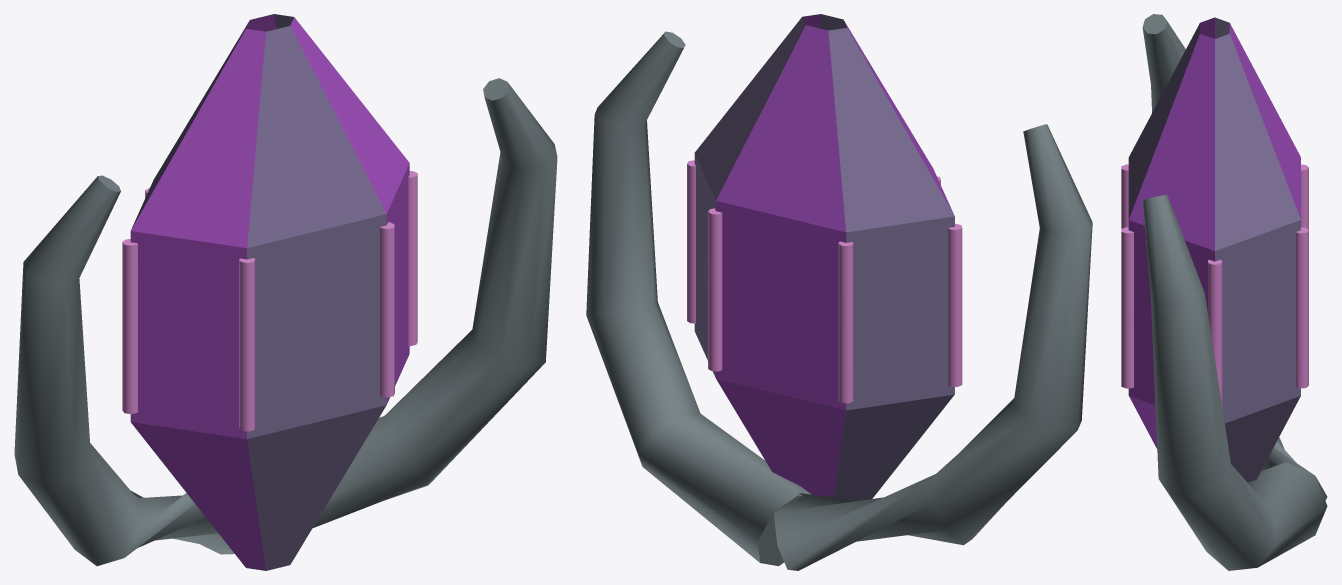
The model's file is boss_phase_prism.glb.
3 renders of one model, left to right at view 1: azimuth 30°, elevation 25°; view 2: azimuth 150°, elevation 25°; view 3: azimuth 270°, elevation 25°, orthographic. The views are drawn at different scales.
Parts seen in each view (by area): view 1: boss_phase_prism; view 2: boss_phase_prism; view 3: boss_phase_prism.
Part boxes in pixels (x1=…): boss_phase_prism: x1=14, y1=14, x2=557, y2=570; boss_phase_prism: x1=586, y1=14, x2=1092, y2=570; boss_phase_prism: x1=1121, y1=14, x2=1327, y2=570.
Size of the model in its own units: 1.97 by 1.98 by 0.722.
